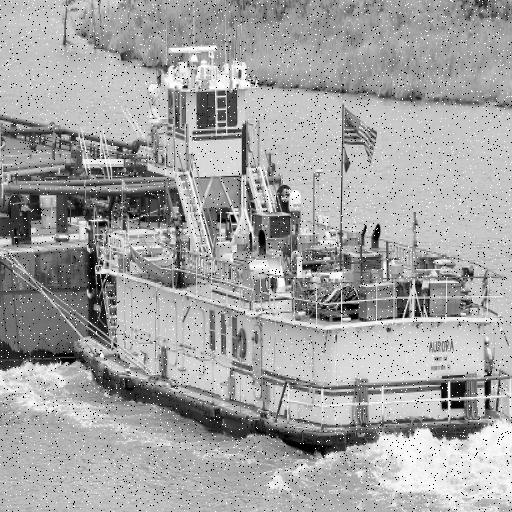tugboat: (73, 38, 512, 471)
